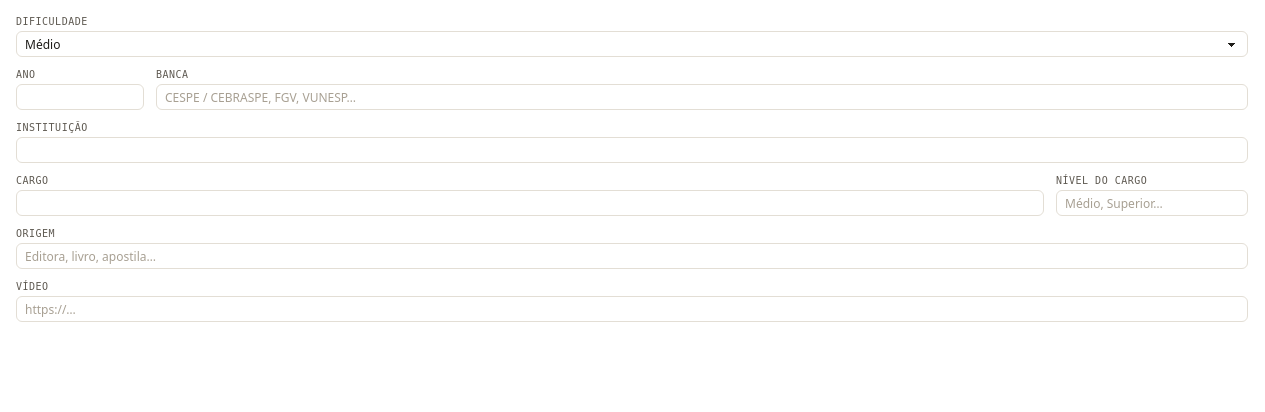
Scenario: MetadataPanel › valor recusado **não** vira mudança
In the number field labelled "Ano": (80, 97) left=16, top=84, right=144, bottom=110, type "20244"
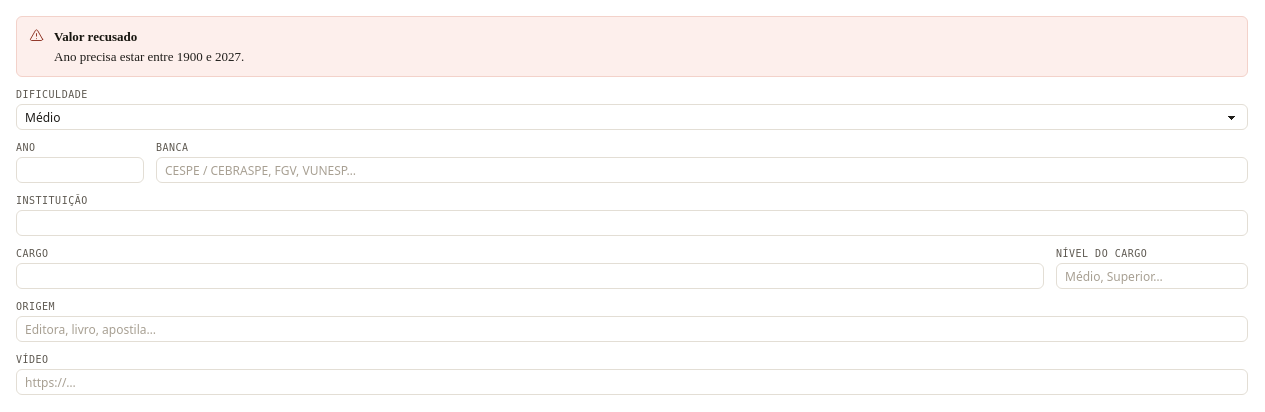
Expected: the text "Valor recusado" is shown, left=54, top=29, right=137, bottom=44
